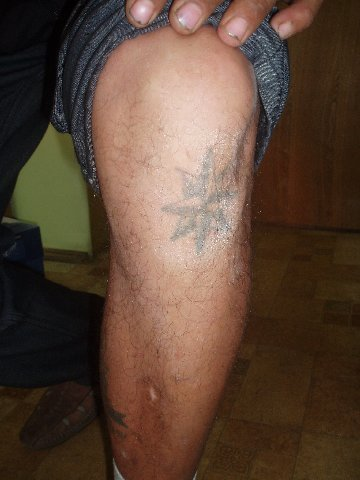tatu4_zvezda: (158, 146, 241, 269)
